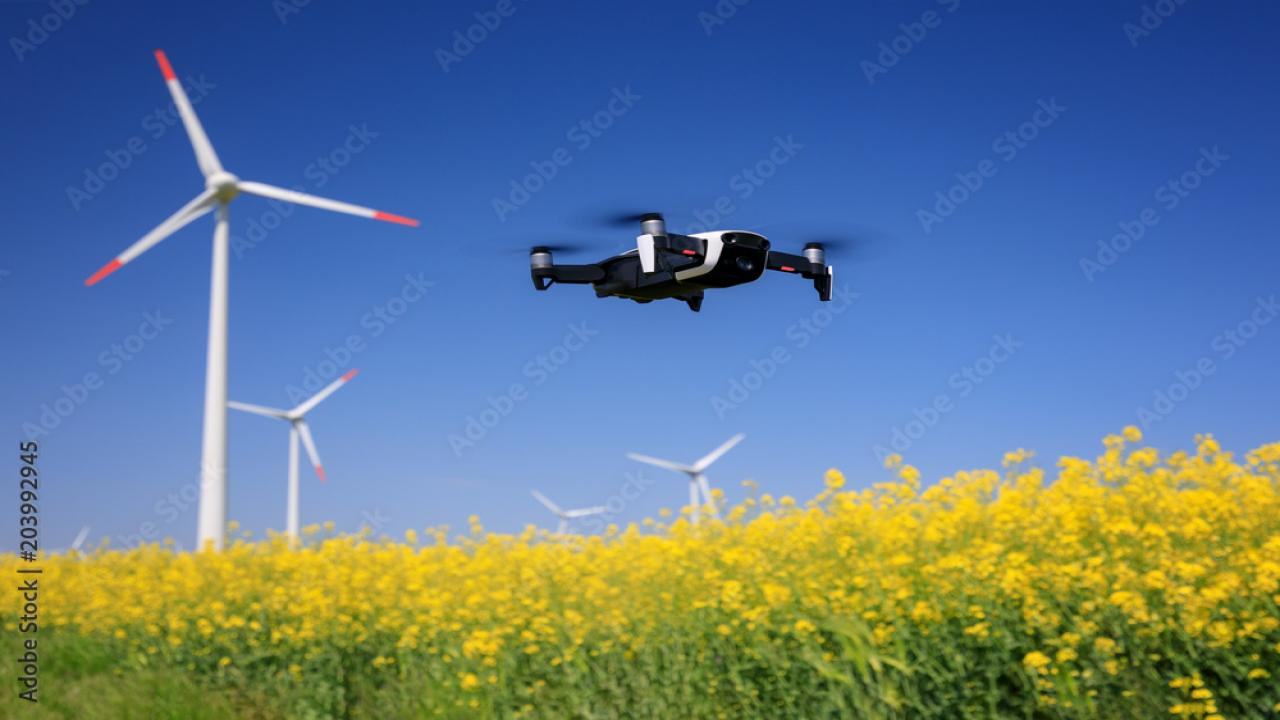Drone: (503, 184, 874, 330)
